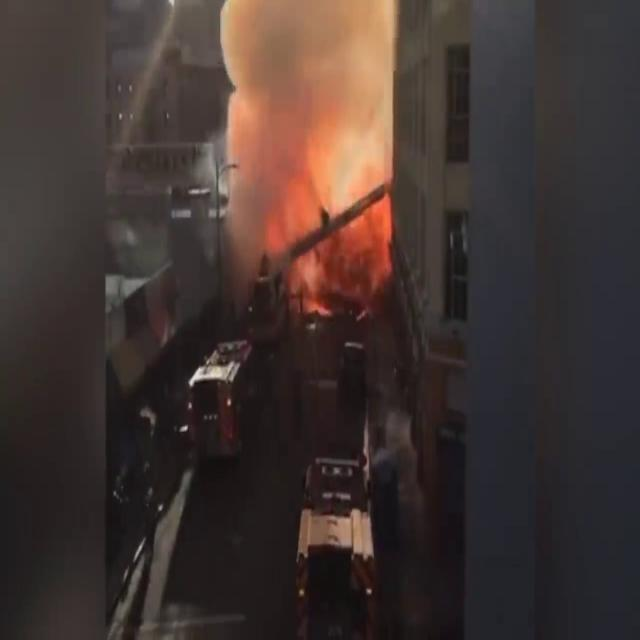Smoke: (201, 1, 415, 283)
